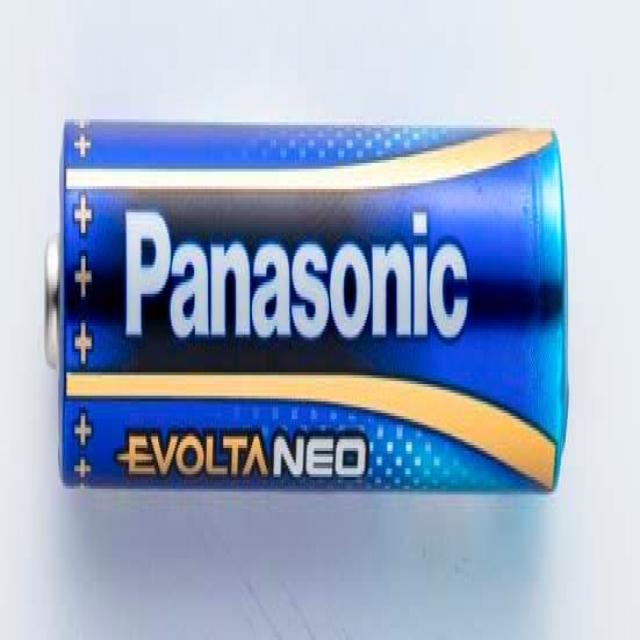hazardous waste: (40, 102, 592, 520)
